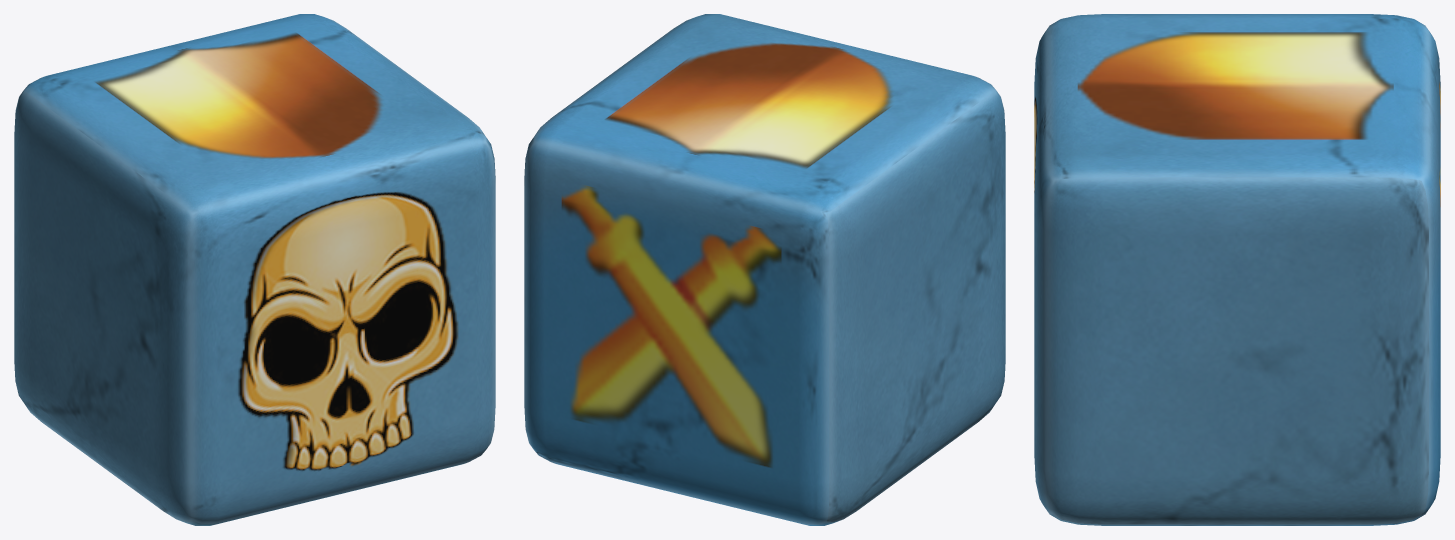
File: Dice Draft.fbx
3 renders of one model, left to right at view 1: azimuth 30°, elevation 25°; view 2: azimuth 150°, elevation 25°; view 3: azimuth 270°, elevation 25°, orthographic. The views are drawn at different scales.
Parts seen in each view (by area): view 1: Dice:pCube1; view 2: Dice:pCube1; view 3: Dice:pCube1.
Boxes of the visible parts, x1,y1,x2,y2 form: Dice:pCube1: [14, 14, 495, 525]; Dice:pCube1: [524, 14, 1005, 525]; Dice:pCube1: [1034, 14, 1440, 525].
Bounding box in the file's own units: 5.75 × 5.71 × 5.71.
Materials: 1 (1 with a texture image).
